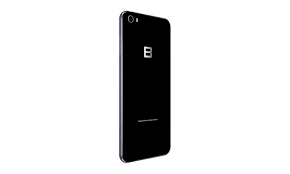iphone: (115, 7, 175, 164)
